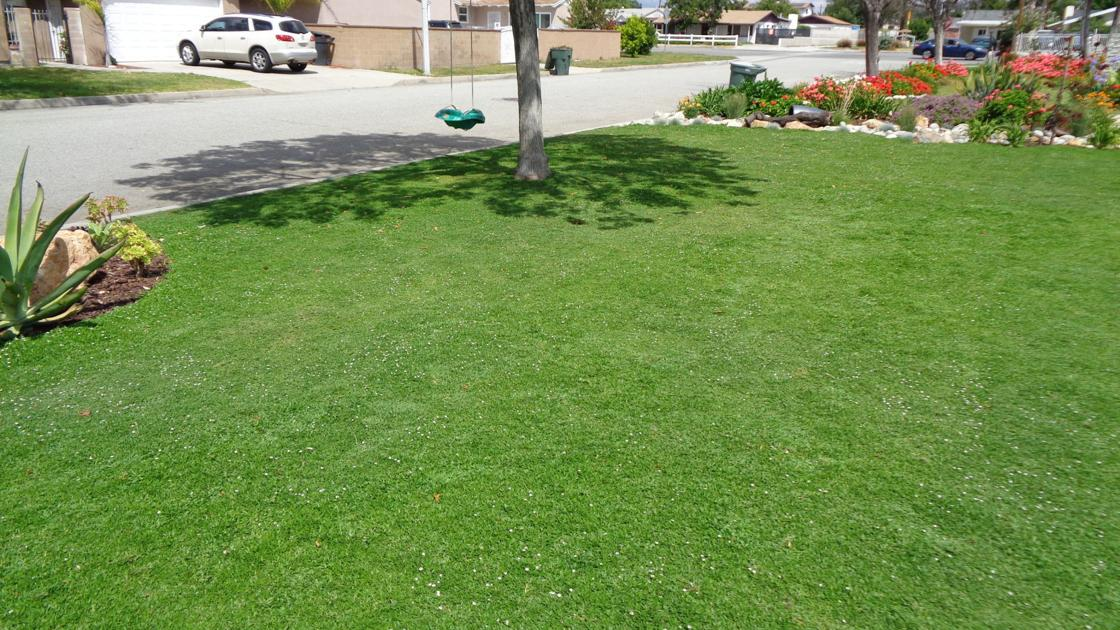grass: (149, 158, 1107, 629), (5, 289, 141, 624)
tree: (508, 3, 554, 183)
